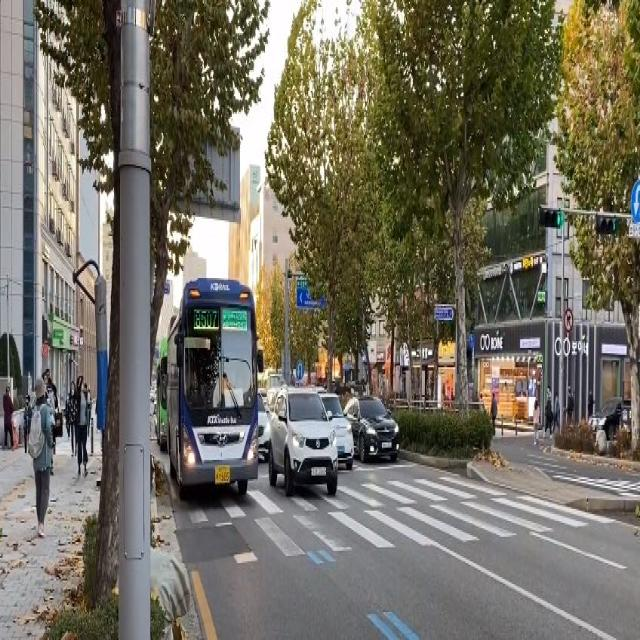bus-number: (195, 312, 217, 327)
